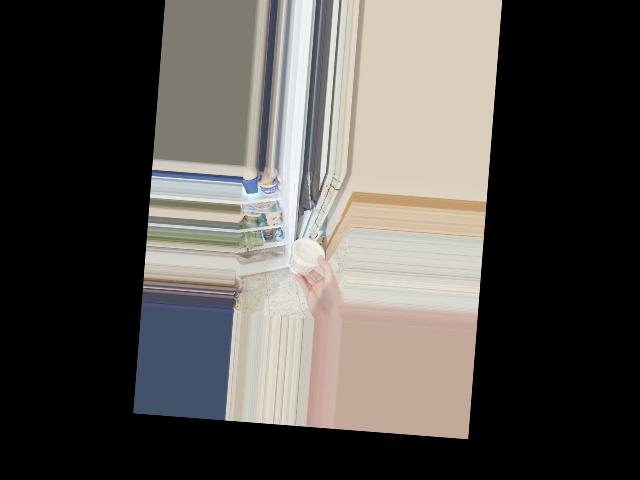cotage: (288, 238, 330, 280)
